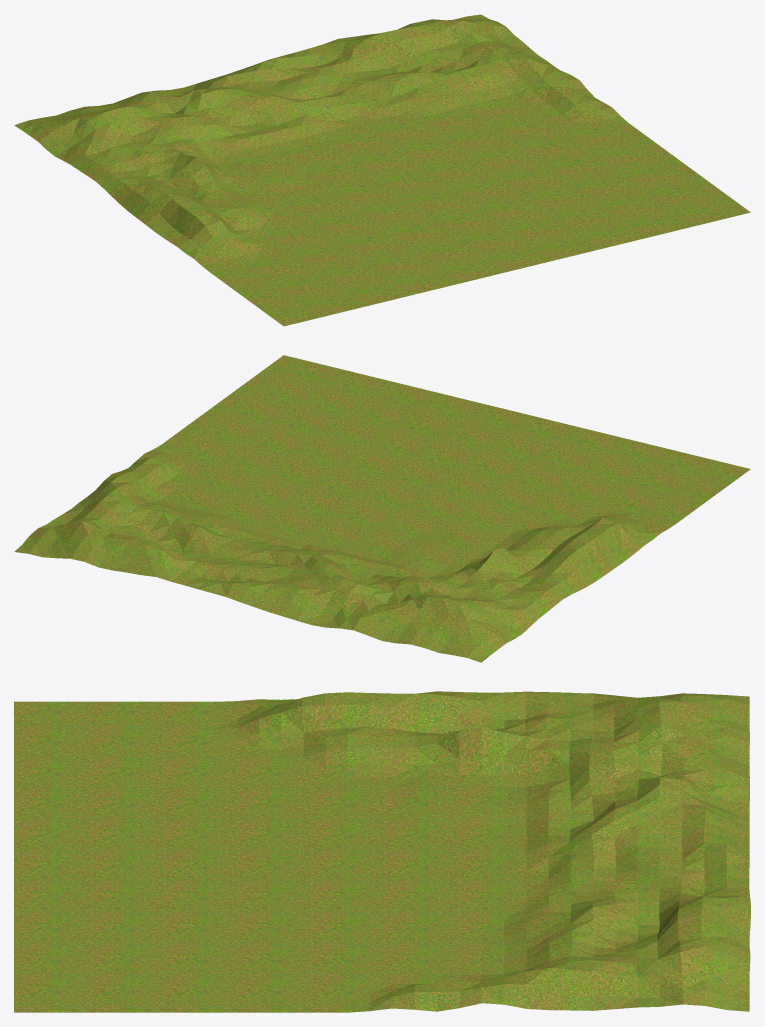
File: ground.obj
The picture shows the model from 3 angles, top to bottom: view 1: azimuth 30°, elevation 25°; view 2: azimuth 150°, elevation 25°; view 3: azimuth 270°, elevation 25°; orthographic projection. The views are drawn at different scales.
Visible parts, largest first — view 1: Plane; view 2: Plane; view 3: Plane.
Boxes of the visible parts, bbox=[...] form: Plane: bbox=[14, 14, 750, 326]; Plane: bbox=[14, 355, 750, 662]; Plane: bbox=[14, 691, 750, 1012].
Bounding box in the file's own units: 20.06 × 1.12 × 20.04.
Materials: 1 (1 with a texture image).
